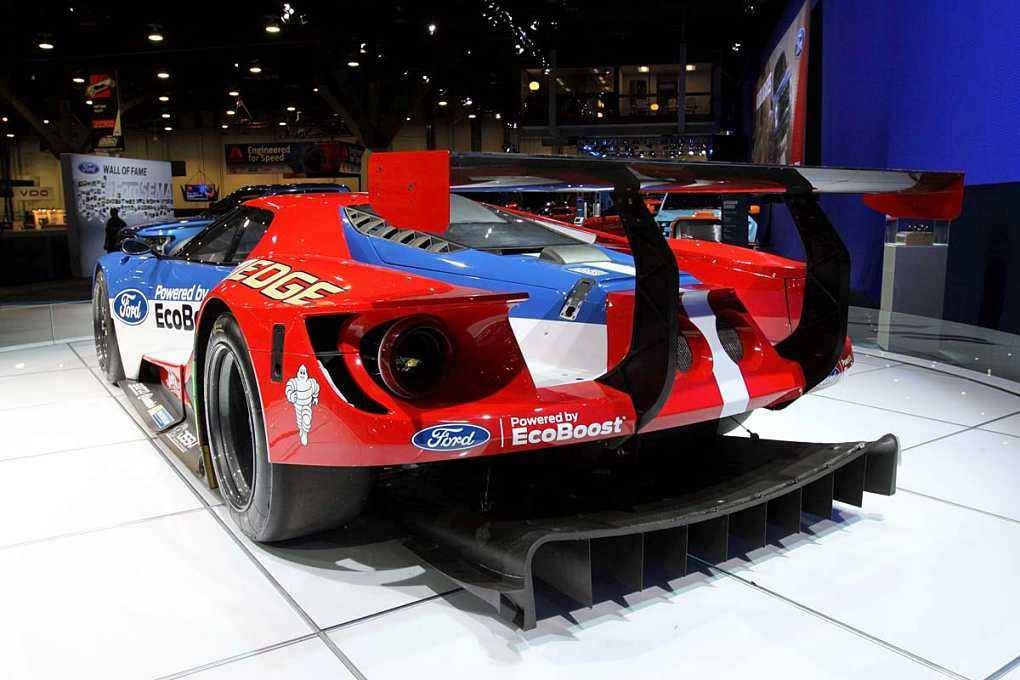racing car: (81, 150, 902, 622)
